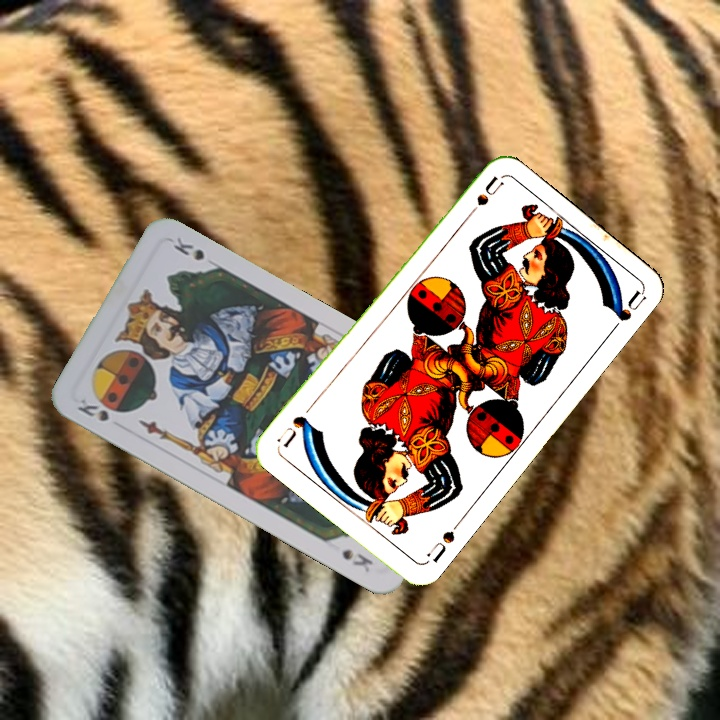SK: (73, 394, 112, 424)
SU: (459, 172, 505, 224), (422, 526, 458, 566)
